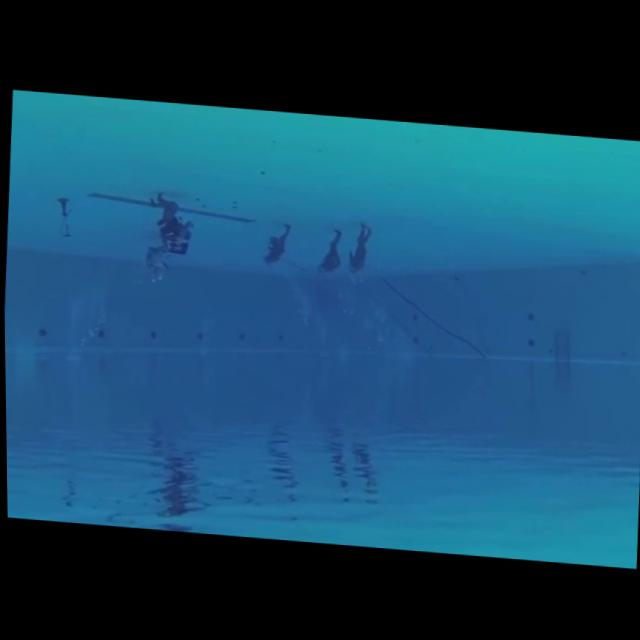human: (142, 185, 200, 258), (342, 214, 382, 286), (255, 216, 298, 274), (135, 233, 172, 295), (309, 220, 345, 283)
